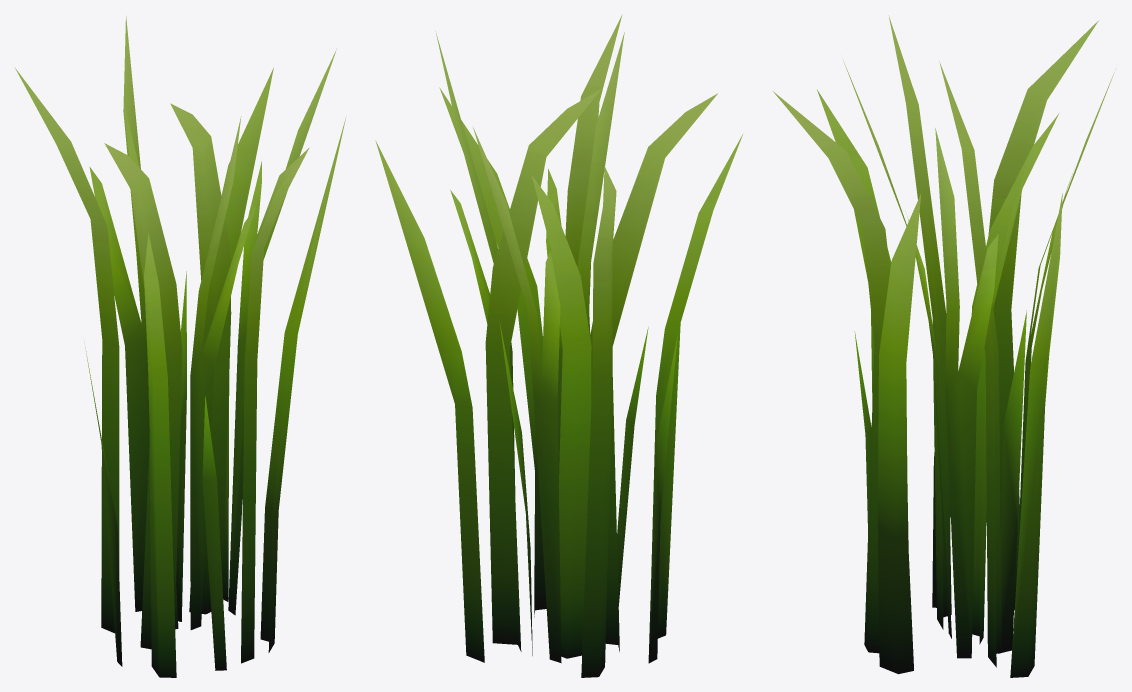
File: Grass_Common_Tall.gltf
3 views of the same model, side by side, from view 1: azimuth 30°, elevation 25°; view 2: azimuth 150°, elevation 25°; view 3: azimuth 270°, elevation 25° (orthographic). The views are drawn at different scales.
Parts seen in each view (by area): view 1: Grass_Common_Tall; view 2: Grass_Common_Tall; view 3: Grass_Common_Tall.
Boxes of the visible parts, <box> form: Grass_Common_Tall: <box>15,16,345,677</box>; Grass_Common_Tall: <box>375,14,743,677</box>; Grass_Common_Tall: <box>773,15,1115,677</box>.
Size of the model in its own units: 0.8951 by 1.87 by 0.9932.
Materials: 1 (1 with a texture image).
